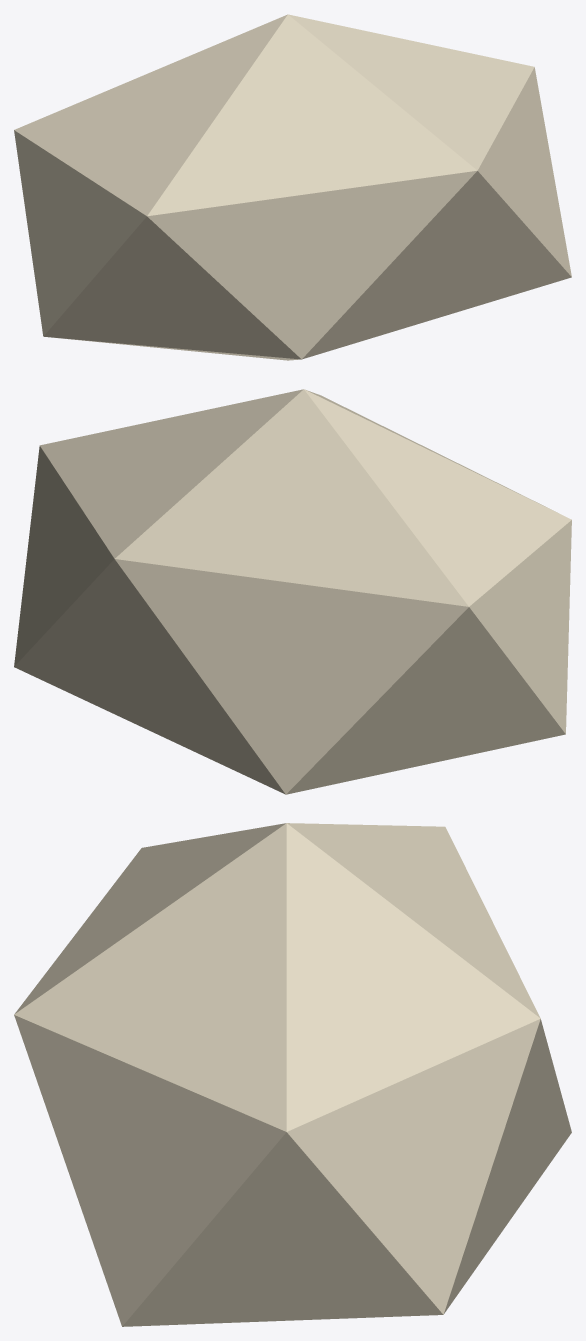
Rendered from item_071_wool_s.glb.
3 renders of one model, top to bottom at view 1: azimuth 30°, elevation 25°; view 2: azimuth 150°, elevation 25°; view 3: azimuth 270°, elevation 25°, orthographic. The views are drawn at different scales.
Parts seen in each view (by area): view 1: item_071_wool_s; view 2: item_071_wool_s; view 3: item_071_wool_s.
Boxes of the visible parts, x1,y1,x2,y2 form: item_071_wool_s: (14, 14, 571, 360); item_071_wool_s: (14, 389, 571, 794); item_071_wool_s: (14, 823, 571, 1326).
Bounding box in the file's own units: 0.2925 × 0.1969 × 0.217.
